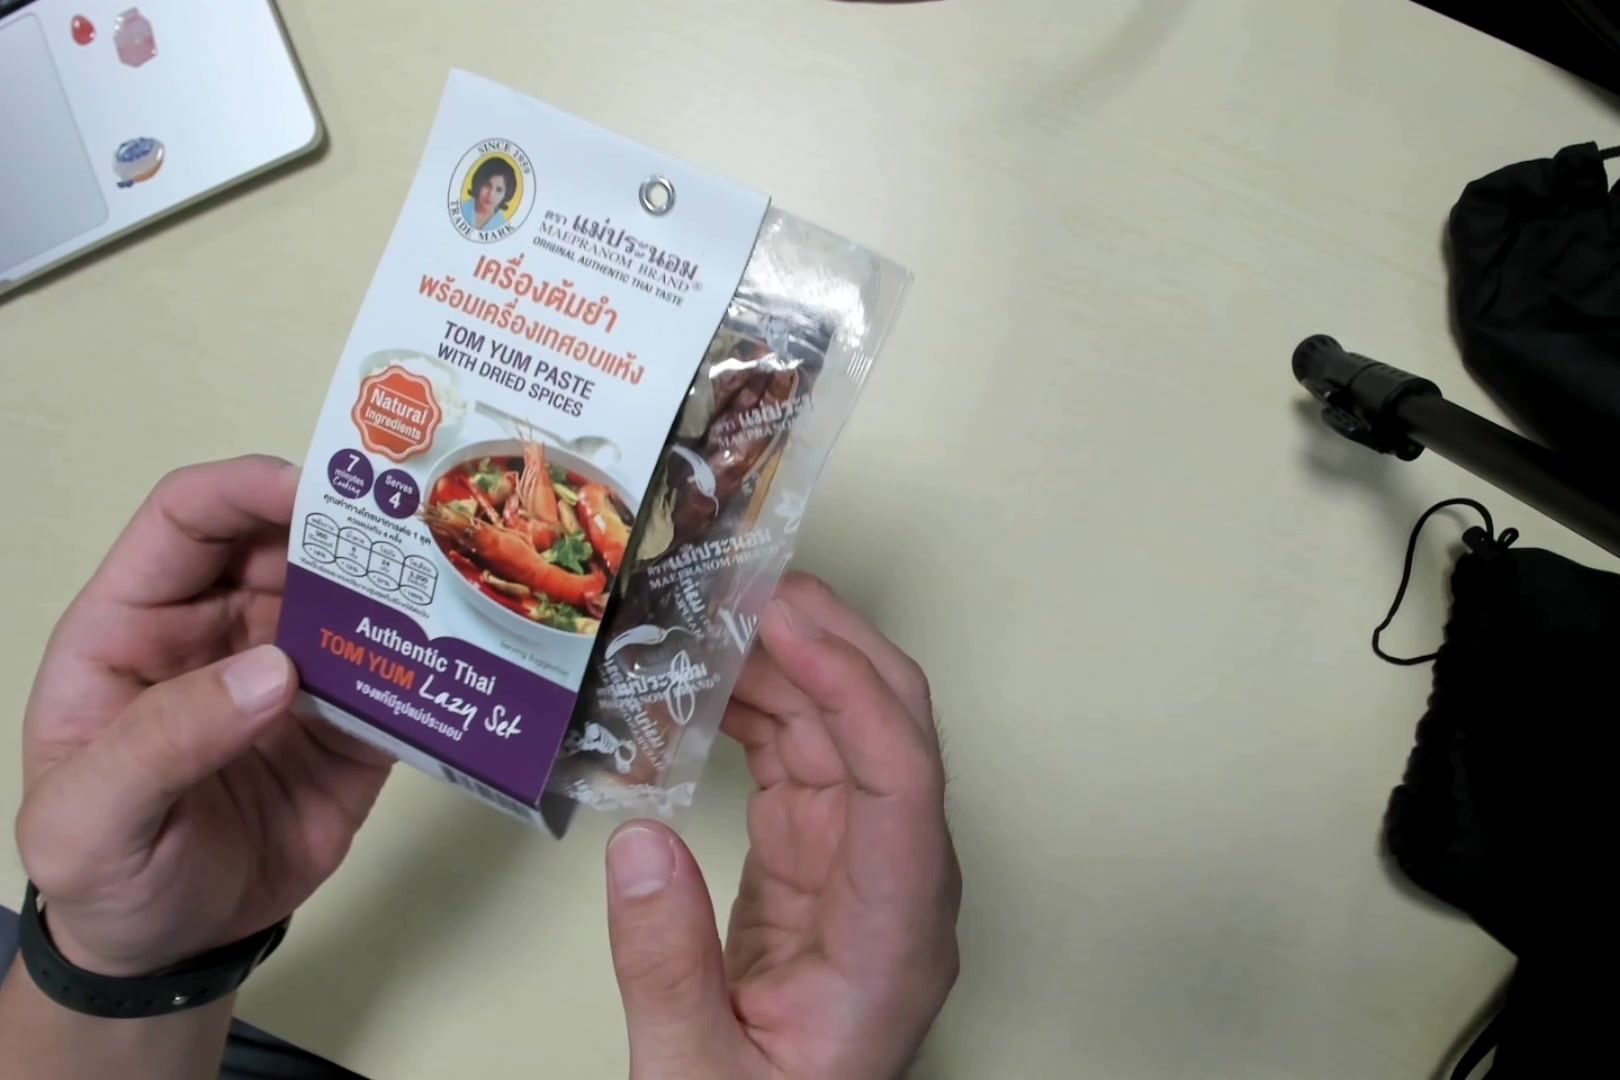OtherSauceDressingSoupBaswPaste_0-99g_Halal_NonHealthy: (282, 98, 827, 833)
